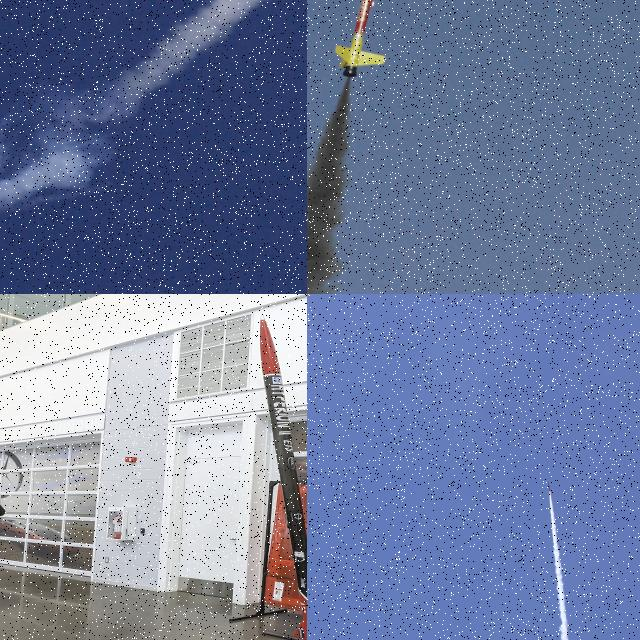Rocket: (260, 313, 307, 640), (334, 0, 391, 80), (548, 480, 551, 492)
